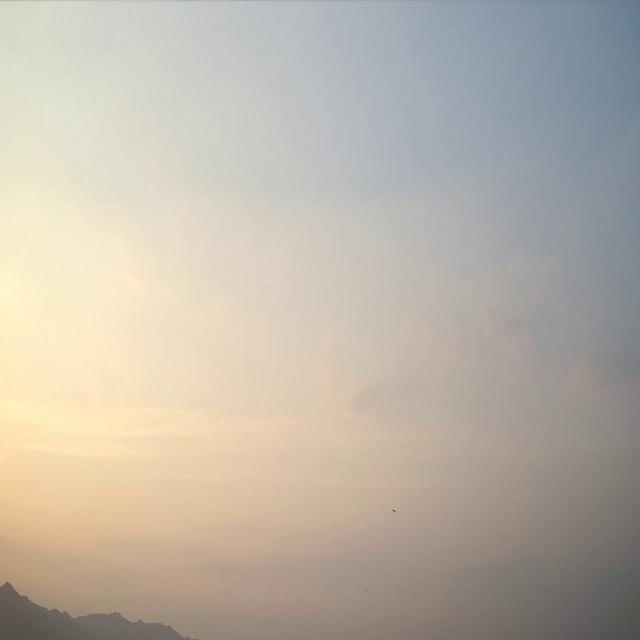UAV: (393, 508, 397, 512)
